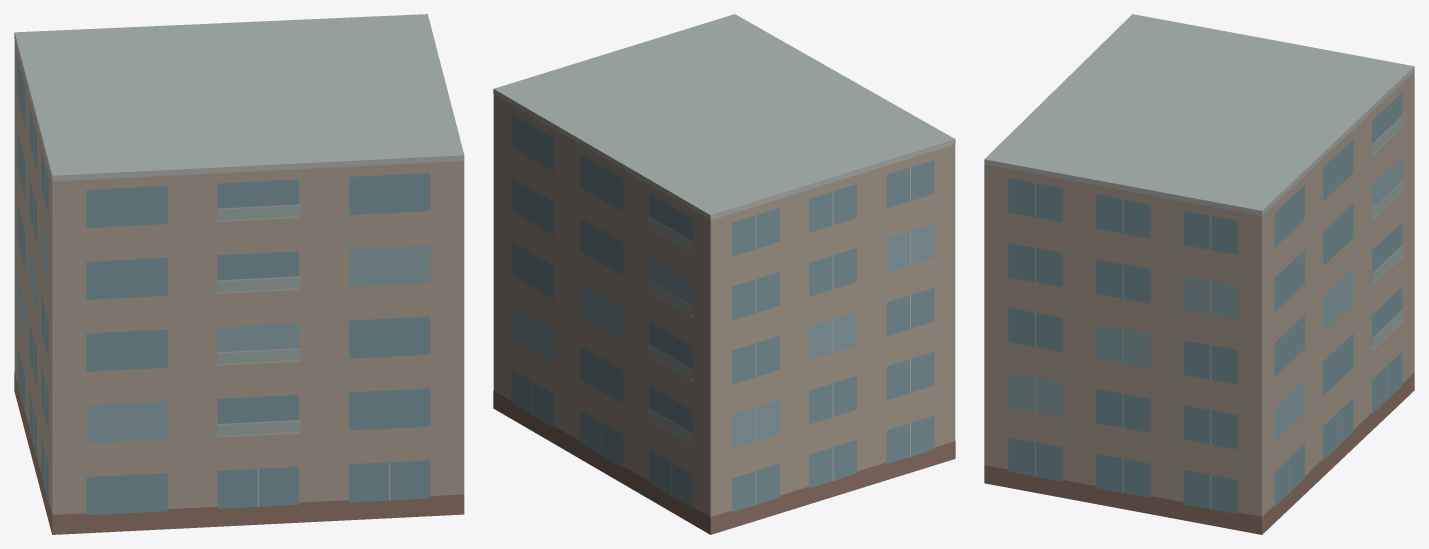
File: survey-upis-32901656.glb
The picture shows the model from 3 angles, left to right: view 1: azimuth 30°, elevation 25°; view 2: azimuth 150°, elevation 25°; view 3: azimuth 270°, elevation 25°; orthographic projection. The views are drawn at different scales.
Visible parts, largest first — view 1: survey-upis-32901656.tmp; view 2: survey-upis-32901656.tmp; view 3: survey-upis-32901656.tmp.
Boxes of the visible parts, x1,y1,x2,y2 form: survey-upis-32901656.tmp: (14, 14, 464, 534); survey-upis-32901656.tmp: (493, 14, 955, 534); survey-upis-32901656.tmp: (984, 14, 1414, 534).
Bounding box in the file's own units: 19.89 × 15.25 × 18.37.
